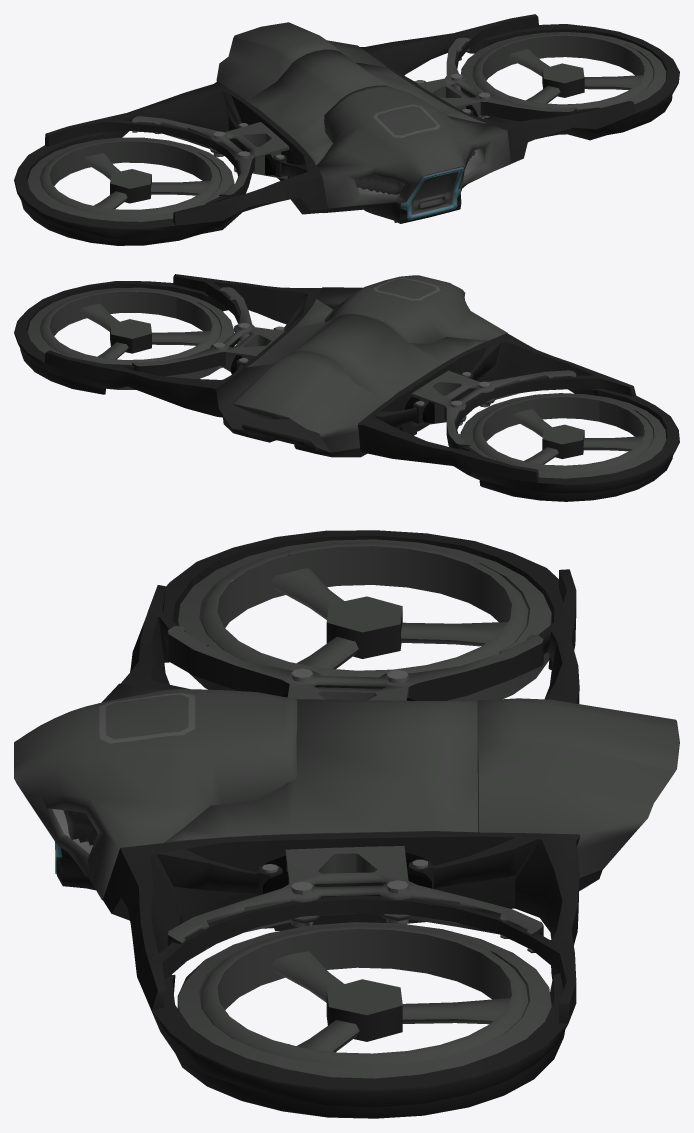
File: drone.glb
3 views of the same model, one above another, from view 1: azimuth 30°, elevation 25°; view 2: azimuth 150°, elevation 25°; view 3: azimuth 270°, elevation 25° (orthographic). The views are drawn at different scales.
Visible parts, largest first — view 1: bishop_drone_00; view 2: bishop_drone_00; view 3: bishop_drone_00.
Part boxes in pixels (x1=…): bishop_drone_00: x1=14, y1=14, x2=679, y2=245; bishop_drone_00: x1=14, y1=274, x2=679, y2=501; bishop_drone_00: x1=14, y1=530, x2=679, y2=1118.
Size of the model in its own units: 1.83 by 0.2731 by 0.9215.
Materials: 4 (4 with a texture image).
